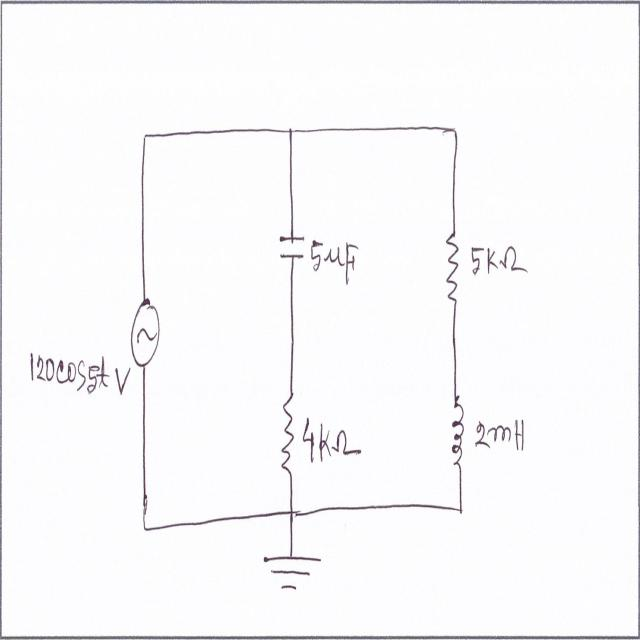ac_current: (130, 294, 161, 379)
capacitor: (276, 223, 308, 270)
ground: (259, 551, 324, 597)
inductor: (448, 397, 471, 475)
resistor: (276, 391, 299, 477), (443, 224, 462, 308)
